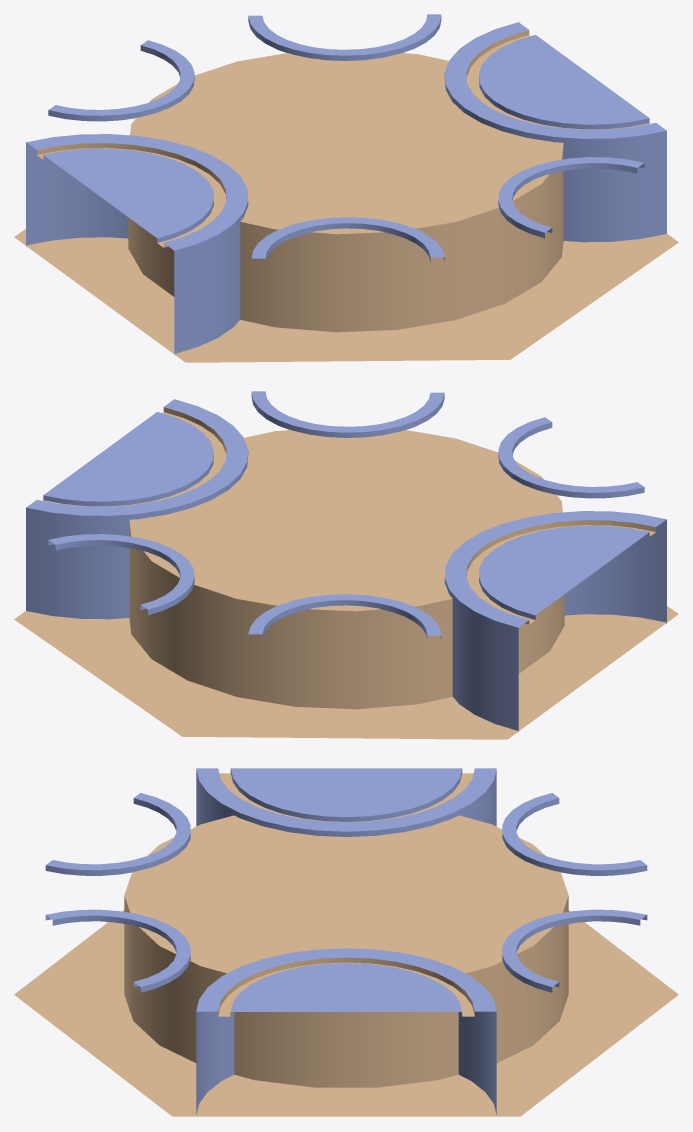
The model's file is Mesh_Floor_2.fbx.
3 renders of one model, top to bottom at view 1: azimuth 30°, elevation 25°; view 2: azimuth 150°, elevation 25°; view 3: azimuth 270°, elevation 25°, orthographic.
Visible parts, largest first — view 1: Cylinder.003; view 2: Cylinder.003; view 3: Cylinder.003.
Boxes of the visible parts, x1,y1,x2,y2 form: Cylinder.003: [14, 14, 678, 362]; Cylinder.003: [14, 391, 678, 739]; Cylinder.003: [14, 768, 678, 1116].
Bounding box in the file's own units: 1039 × 211 × 1197.
